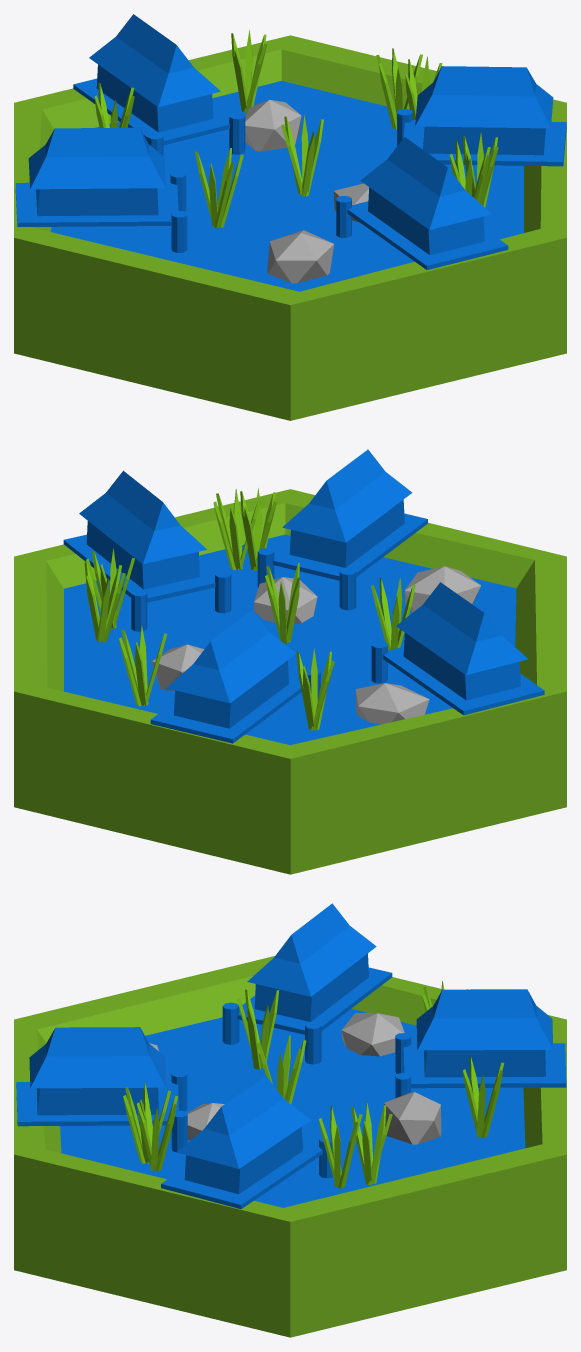
Rendered from Casas_Lago_Cerrado_4.fbx.
3 renders of one model, top to bottom at view 1: azimuth 30°, elevation 25°; view 2: azimuth 150°, elevation 25°; view 3: azimuth 270°, elevation 25°, orthographic.
Visible parts, largest first — view 1: Casas_Lago_Cerrado_4; view 2: Casas_Lago_Cerrado_4; view 3: Casas_Lago_Cerrado_4.
Part boxes in pixels (<box>): Casas_Lago_Cerrado_4: <box>14,14,566,420</box>; Casas_Lago_Cerrado_4: <box>14,449,566,874</box>; Casas_Lago_Cerrado_4: <box>14,903,566,1337</box>.
Bounding box in the file's own units: 200 × 67.29 × 173.
